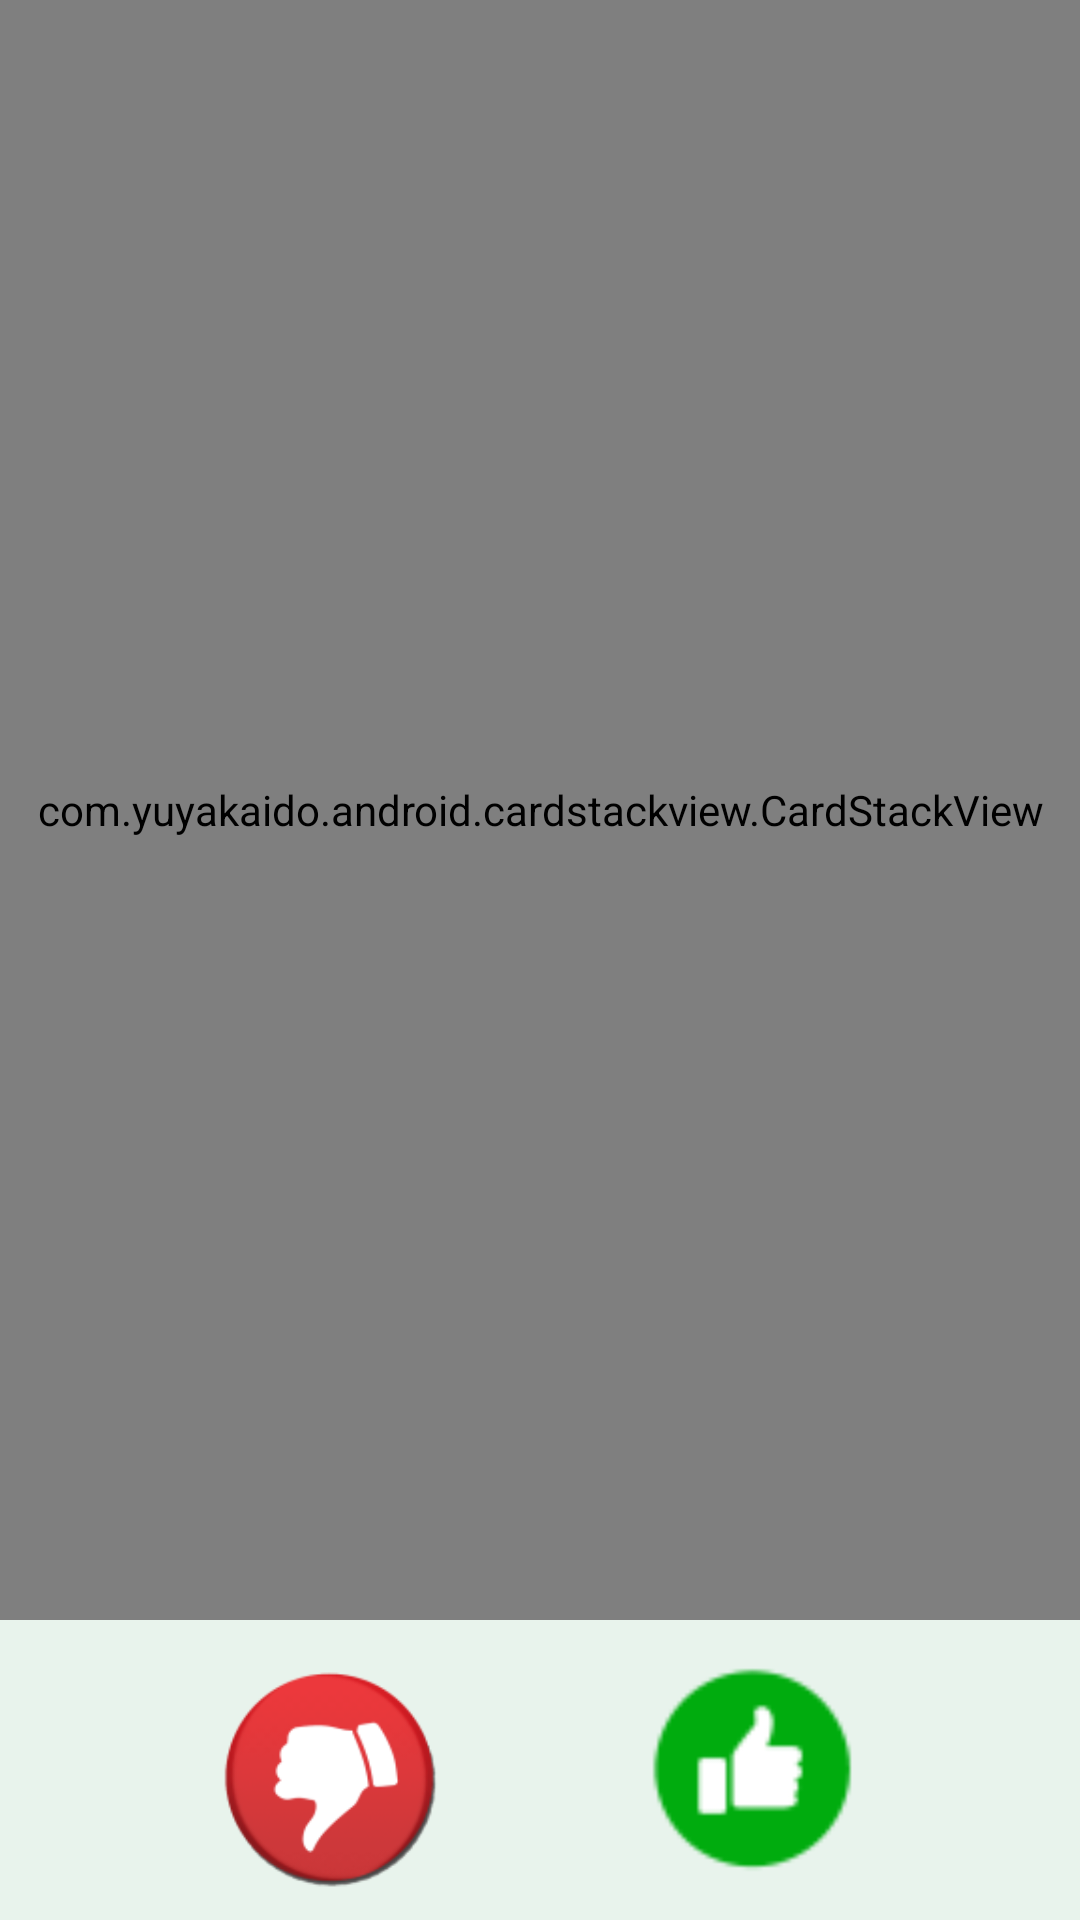

Named icons in this screenshot (1080 × 1920) and their centers, point (x, y):
dislike: point (330, 1780)
like: point (752, 1768)
